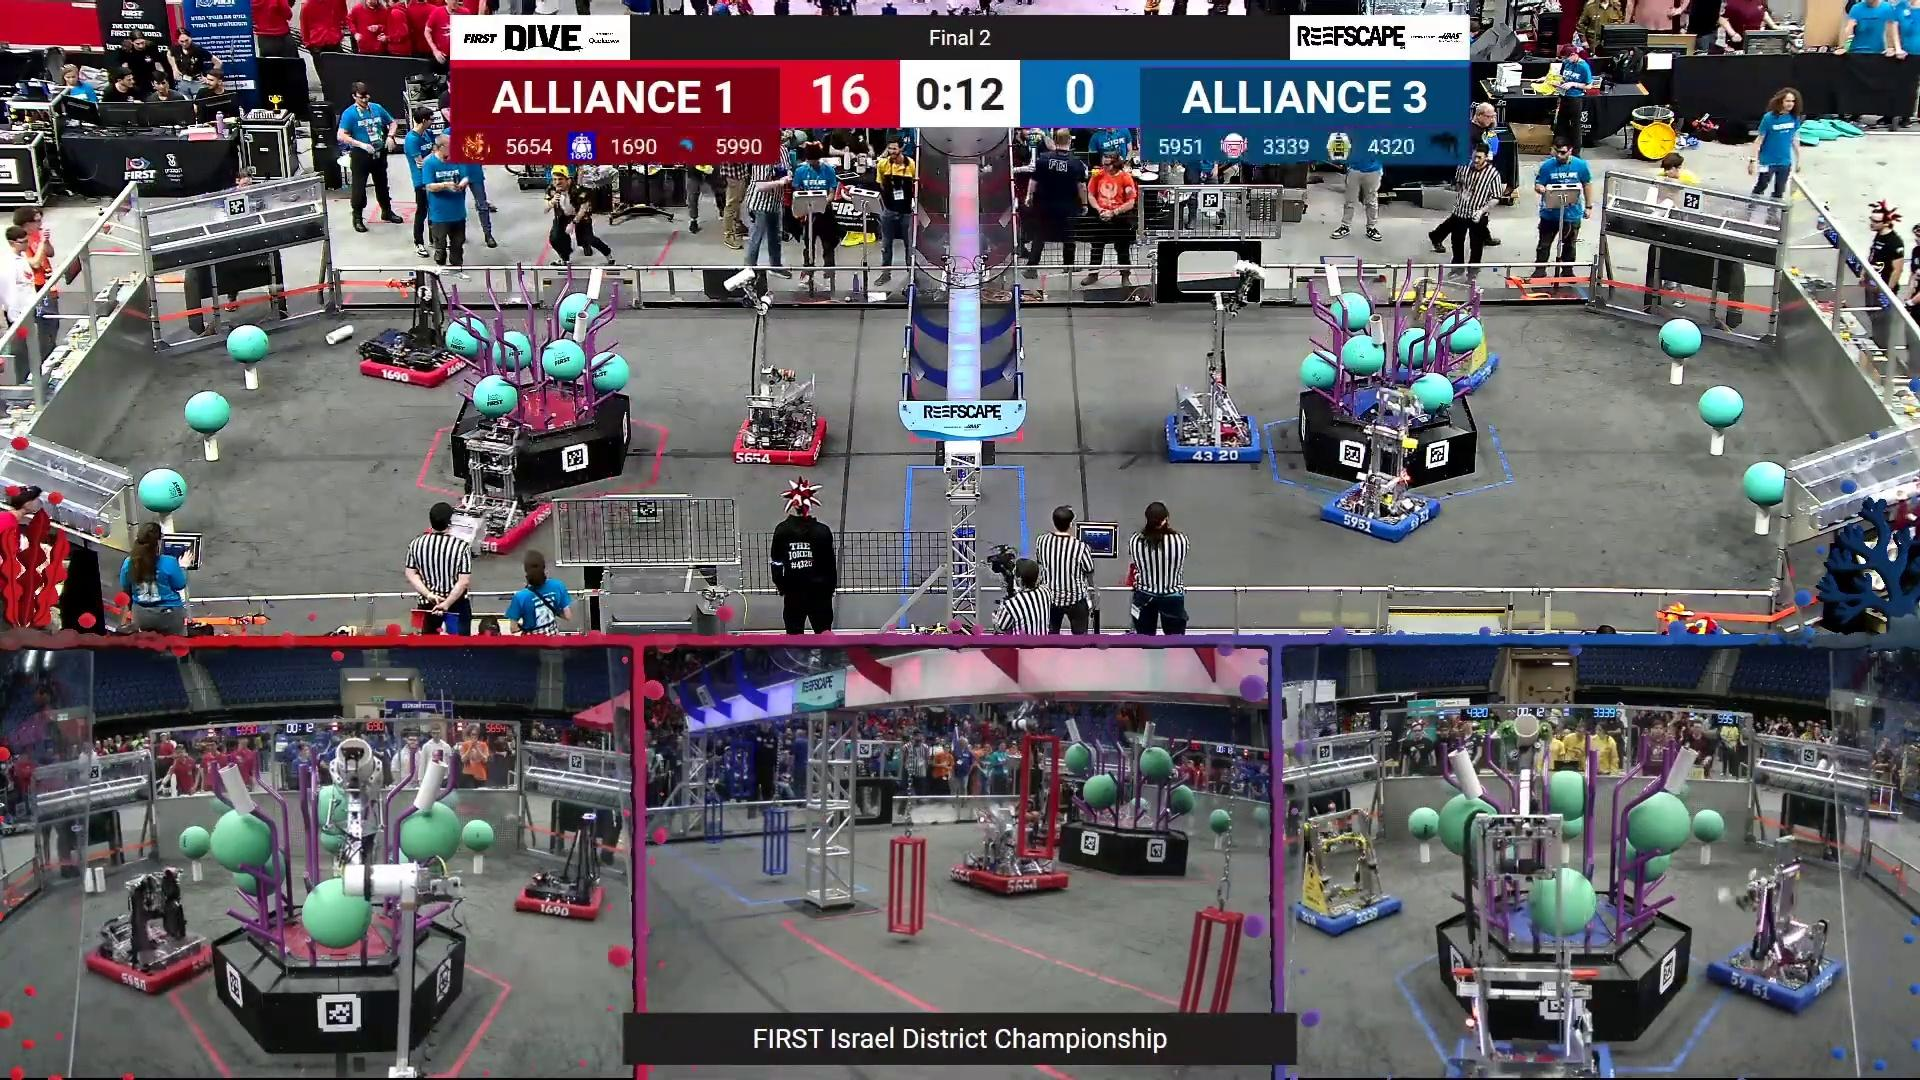robot: (1439, 716, 1617, 1076), (1164, 260, 1267, 464), (953, 740, 1085, 895), (723, 268, 828, 462), (1706, 864, 1844, 1011), (83, 864, 208, 994), (433, 415, 551, 553), (1319, 410, 1440, 542), (1292, 807, 1402, 936), (357, 268, 469, 386), (1390, 285, 1497, 392), (516, 812, 603, 918)
